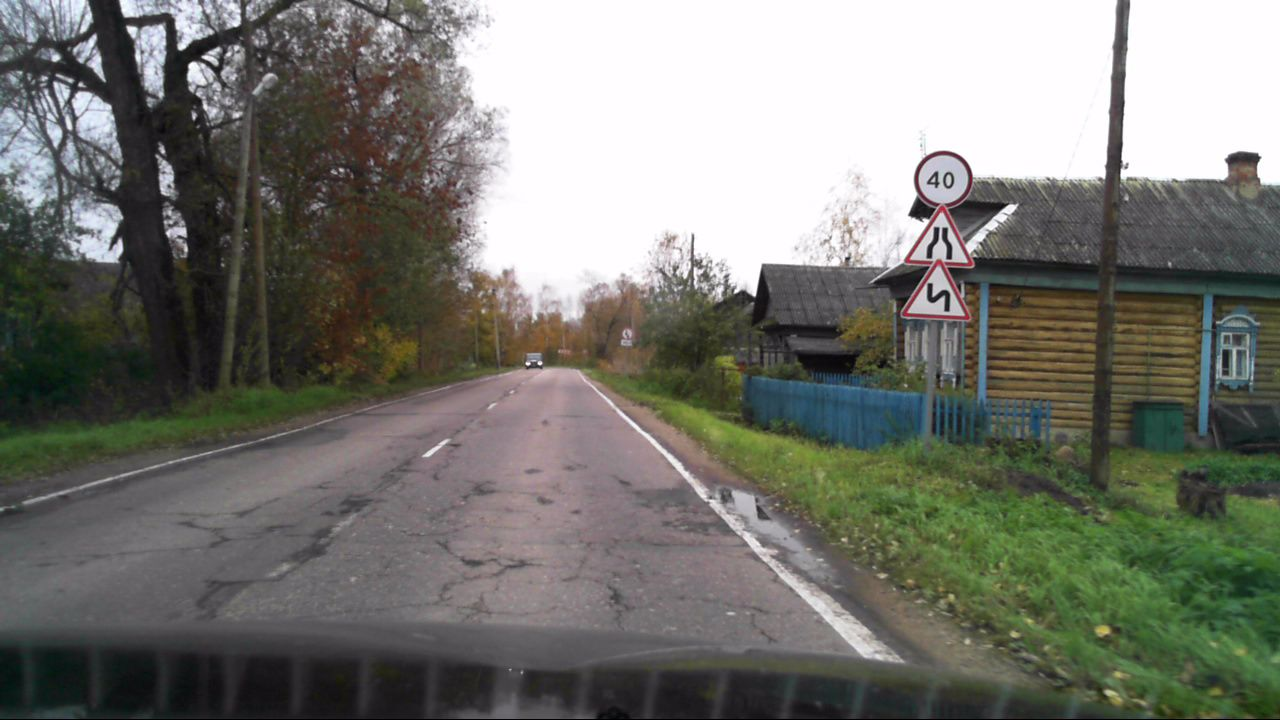speed_warning_40: (913, 152, 972, 209)
